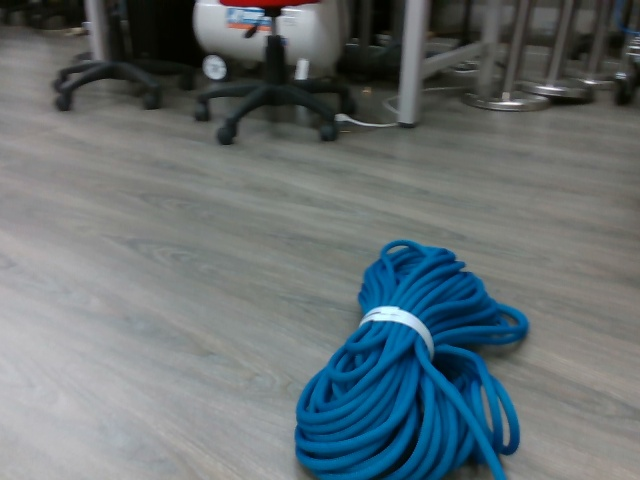rope: (290, 236, 533, 480)
